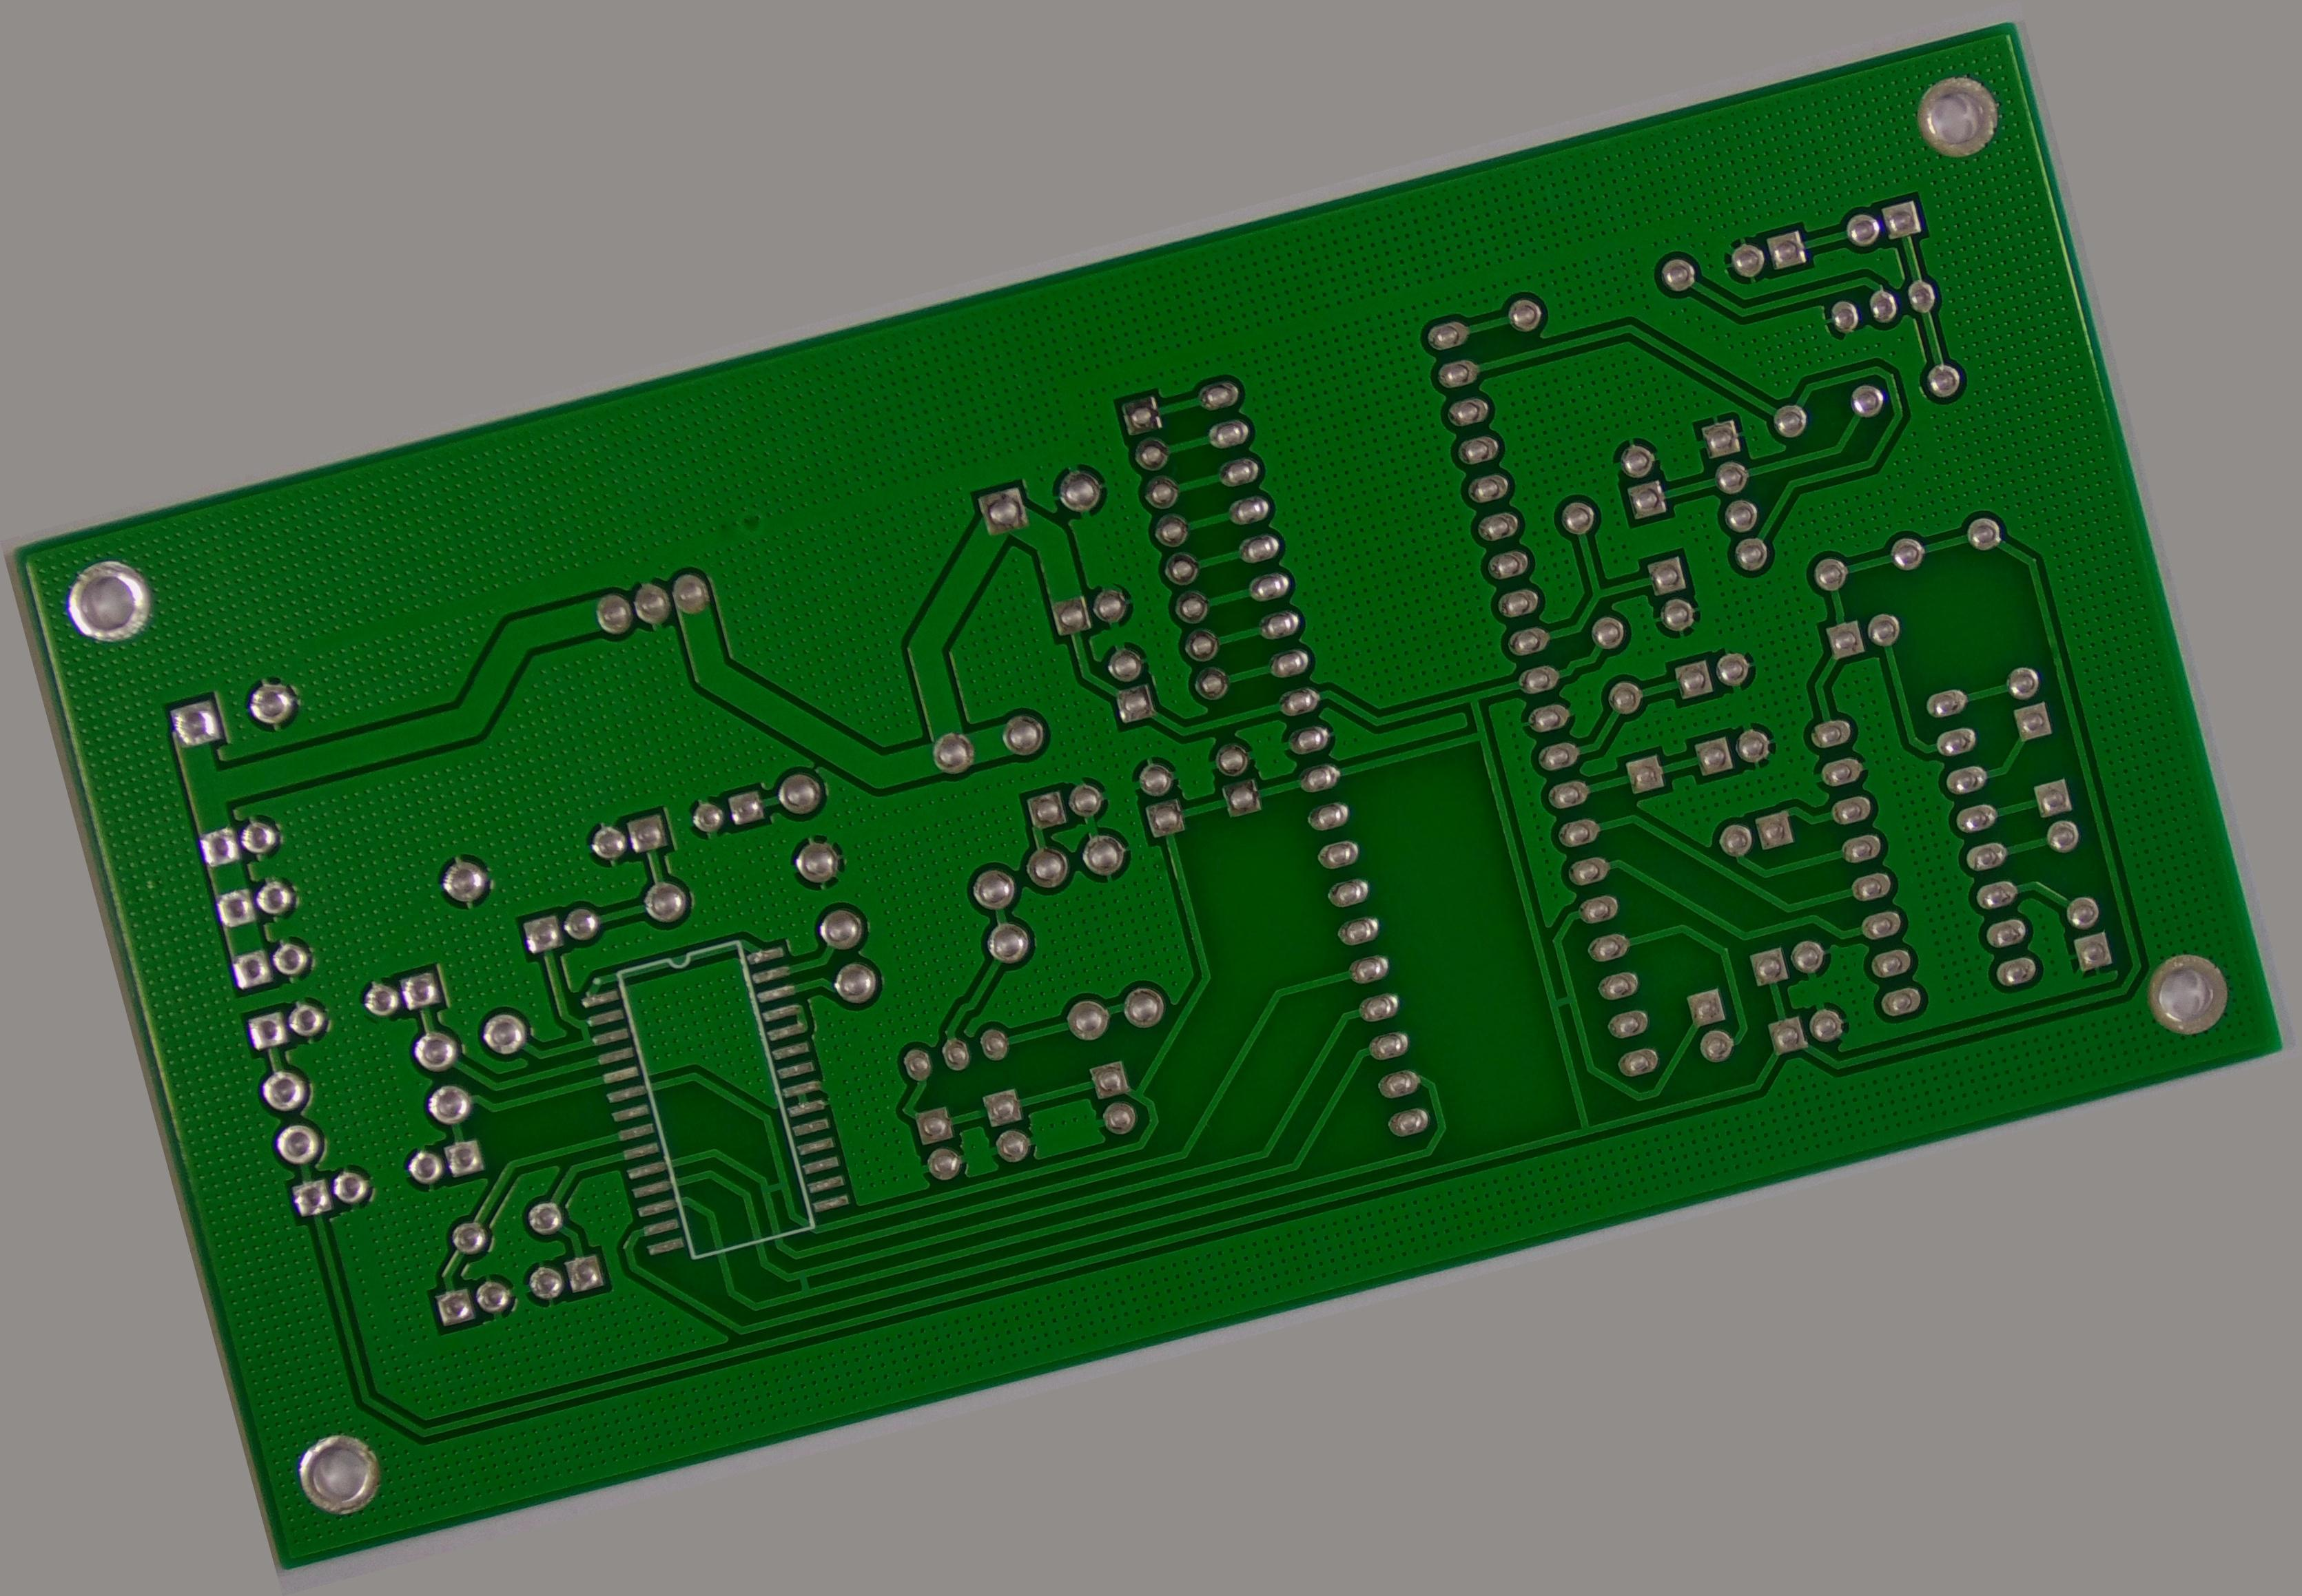short: (1536, 975, 1595, 1026), (743, 1161, 798, 1210), (778, 1260, 826, 1308), (570, 1014, 598, 1045)
